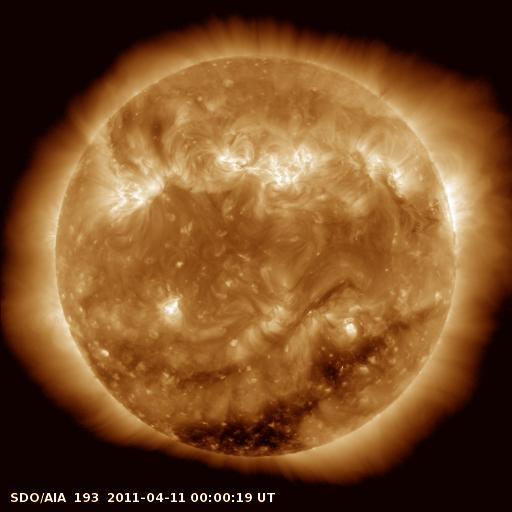coronal_hole: (174, 330, 389, 458)
